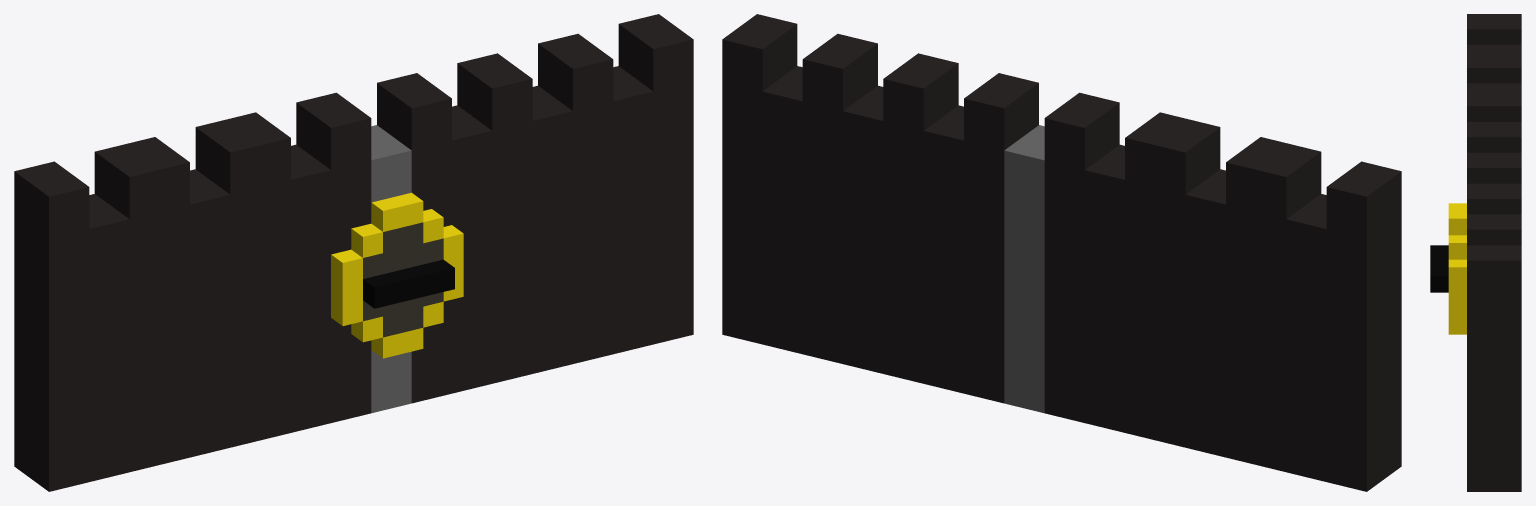
The model's file is World Gate.gltf.
3 renders of one model, left to right at view 1: azimuth 30°, elevation 25°; view 2: azimuth 150°, elevation 25°; view 3: azimuth 270°, elevation 25°, orthographic. The views are drawn at different scales.
Parts seen in each view (by area): view 1: Layer.1, Layer.2, Layer.3; view 2: Layer.1, Layer.2; view 3: Layer.2, Layer.1, Layer.3.
Boxes of the visible parts, left/top/right/bottom form: Layer.1: left=14, top=92, right=391, bottom=491; Layer.2: left=371, top=14, right=693, bottom=408; Layer.3: left=331, top=192, right=463, bottom=358; Layer.1: left=1024, top=92, right=1401, bottom=491; Layer.2: left=722, top=14, right=1044, bottom=408; Layer.2: left=1467, top=152, right=1521, bottom=491; Layer.1: left=1467, top=14, right=1521, bottom=152; Layer.3: left=1430, top=203, right=1466, bottom=334.
Bounding box in the file's own units: 32 × 14 × 5.
1 material, 1 textured.
